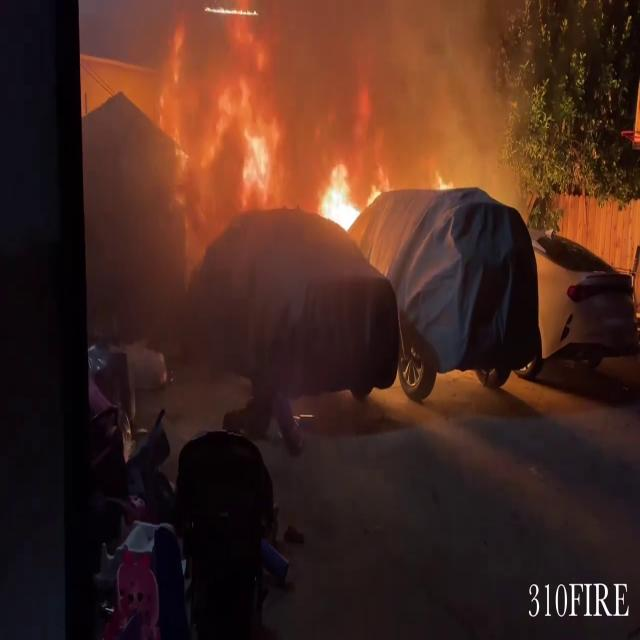Fire: (230, 89, 283, 202), (311, 159, 378, 245)
Smoke: (156, 0, 528, 209)
